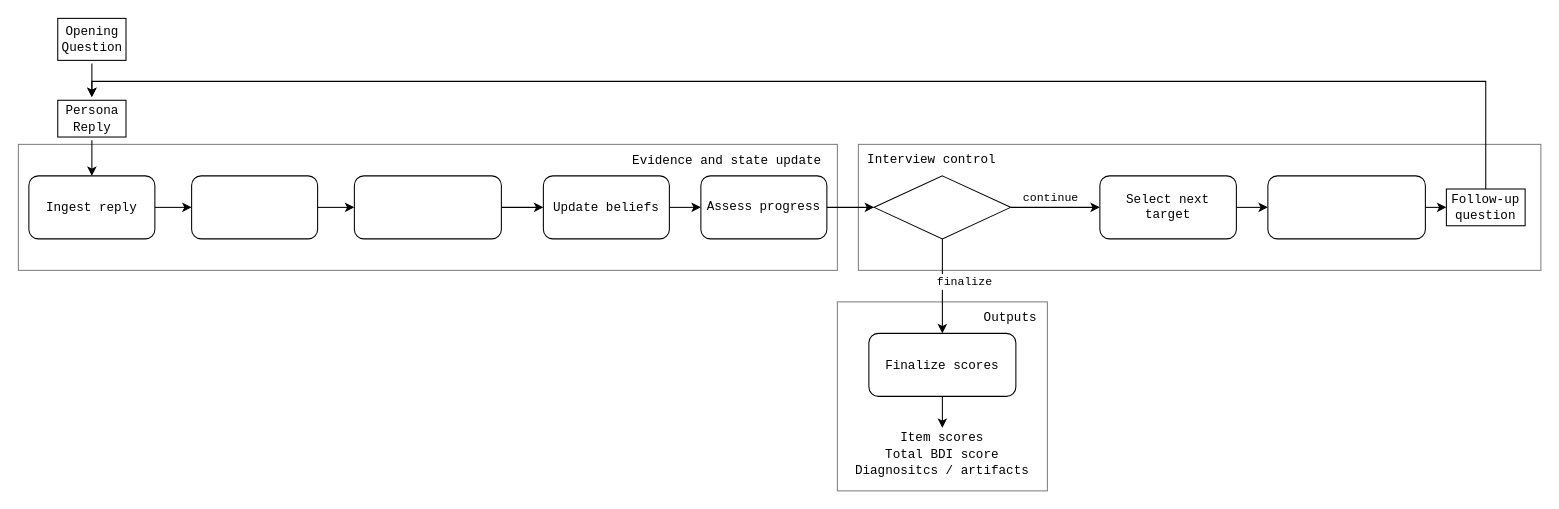
The diagram is 1559 pixels wide and 509 high, and some of its shapes have lost their labels. The shapes that lost their labels are listed below. From the top down, each one's centre as x and y in pixels, then its label:
At [254,207]: "Risk screening".
At [427,207]: "Extract evidence".
At [942,207]: "Enough evidence?".
At [1346,207]: "Generate follow-up".
